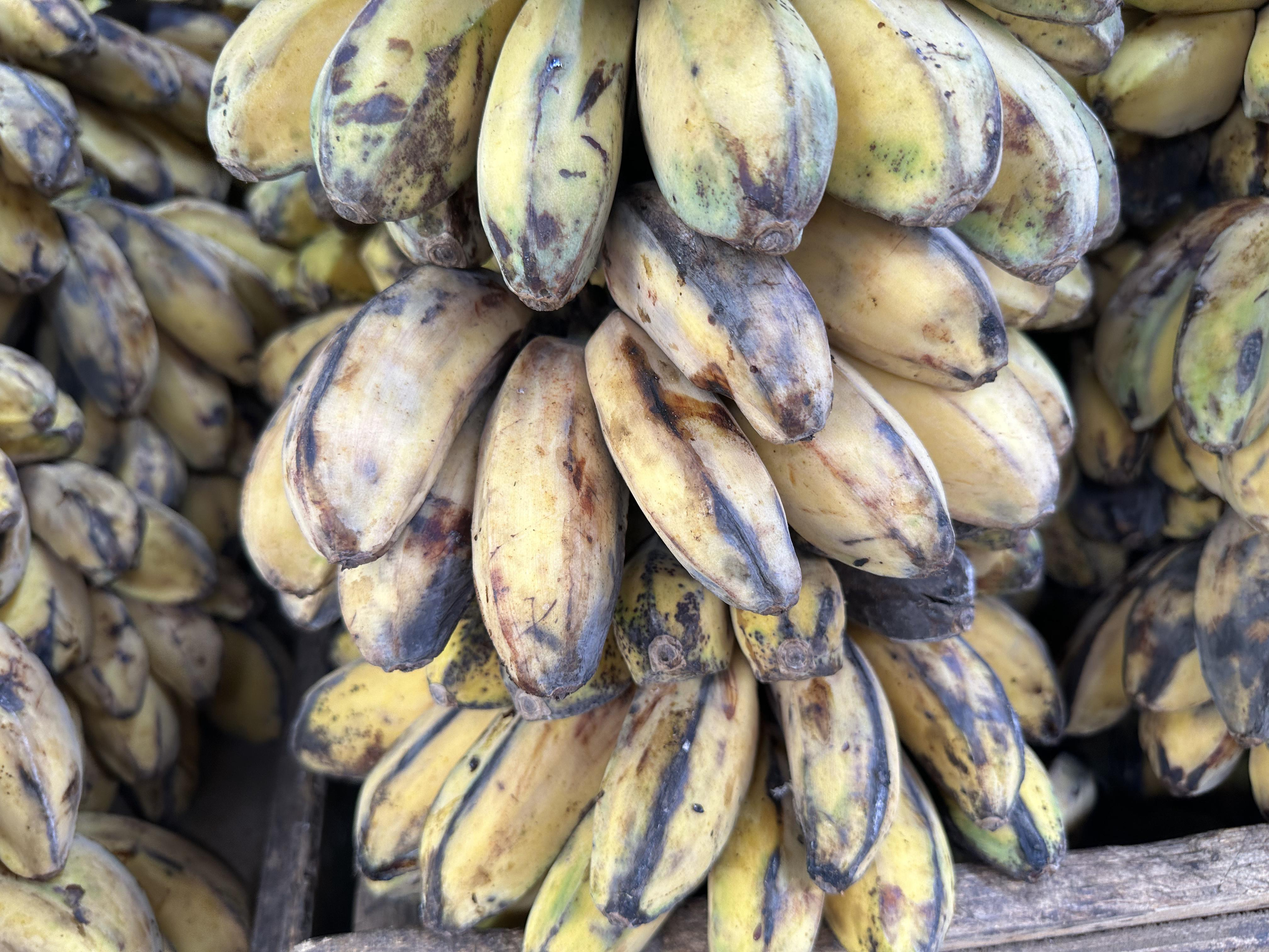ripe: (240, 183, 1090, 701), (295, 596, 1065, 952), (0, 63, 280, 549), (0, 345, 278, 817), (426, 527, 1041, 720), (0, 623, 248, 952), (1063, 518, 1269, 816)
underripe: (209, 0, 1123, 309), (1064, 198, 1269, 552)
